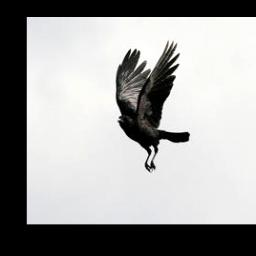Crow: (115, 39, 191, 175)
